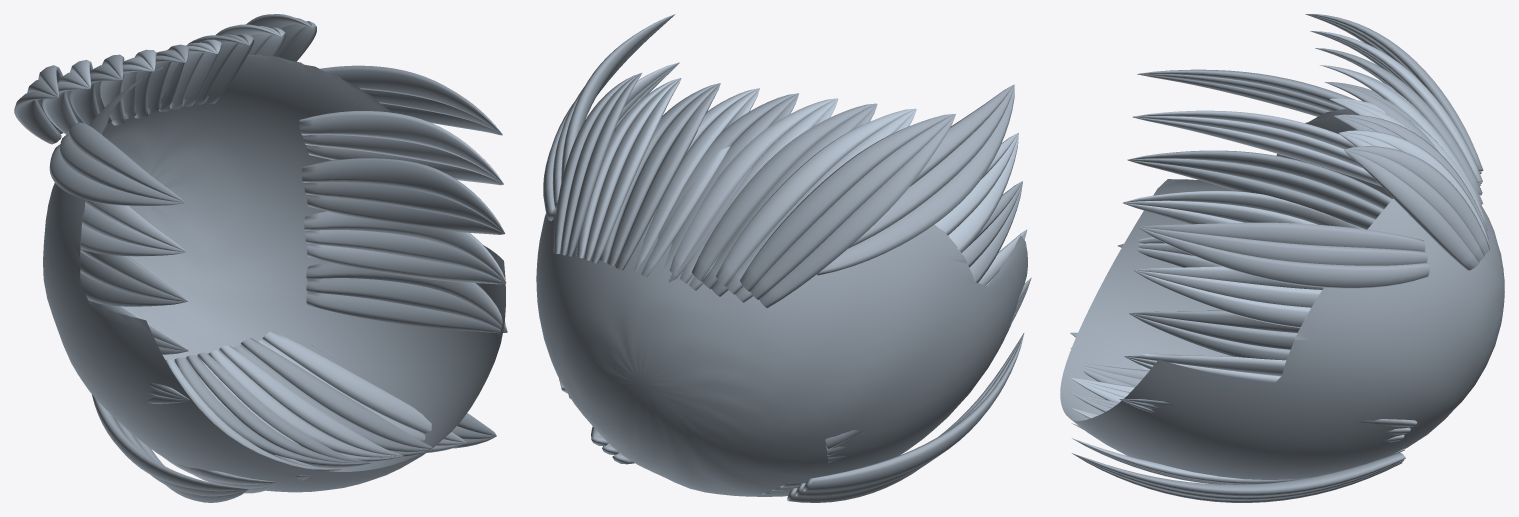
The picture shows the model from 3 angles, left to right: view 1: azimuth 30°, elevation 25°; view 2: azimuth 150°, elevation 25°; view 3: azimuth 270°, elevation 25°; orthographic projection. The views are drawn at different scales.
Parts seen in each view (by area): view 1: CrownHair_ref01, SideHair_1_2_Strand2, SideHair_1_1_Strand2, BackHair_07_Strand2, BackHair_06_Strand2, SideHair_1_4_Strand1, SideHair_1_3_Strand1, SideHair_1_4_Strand0, SideHair_1_3_Strand0, SideHair_1_0_Strand2, SideHair_1_2_Strand1, BackHair_05_Strand2 (+42 smaller); view 2: CrownHair_ref01, FrontHair_00_Strand0, SideHair_-1_0_Strand2, FrontHair_01_Strand0, FrontHair_00_Strand2, FrontHair_00_Strand1, FrontHair_02_Strand0, BackHair_00_Strand0, FrontHair_03_Strand0, SideHair_-1_0_Strand1, FrontHair_06_Strand2, FrontHair_06_Strand1 (+27 smaller); view 3: CrownHair_ref01, SideHair_1_0_Strand0, SideHair_1_0_Strand2, SideHair_1_0_Strand1, BackHair_08_Strand2, SideHair_-1_2_Strand0, FrontHair_08_Strand0, SideHair_-1_2_Strand1, SideHair_-1_2_Strand2, SideHair_-1_3_Strand0, SideHair_-1_1_Strand2, SideHair_1_1_Strand0 (+29 smaller).
Part boxes in pixels (left/top/right/bottom): CrownHair_ref01: left=43, top=54, right=505, bottom=492; SideHair_1_2_Strand2: left=301, top=158, right=504, bottom=232; SideHair_1_1_Strand2: left=299, top=111, right=503, bottom=183; BackHair_07_Strand2: left=262, top=331, right=465, bottom=442; BackHair_06_Strand2: left=241, top=338, right=434, bottom=449; SideHair_1_4_Strand1: left=306, top=278, right=506, bottom=331; SideHair_1_3_Strand1: left=305, top=230, right=505, bottom=282; SideHair_1_4_Strand0: left=306, top=292, right=507, bottom=333; SideHair_1_3_Strand0: left=306, top=243, right=505, bottom=284; SideHair_1_0_Strand2: left=320, top=65, right=502, bottom=134; SideHair_1_2_Strand1: left=304, top=182, right=504, bottom=233; BackHair_05_Strand2: left=219, top=345, right=403, bottom=455; CrownHair_ref01: left=536, top=209, right=1027, bottom=496; FrontHair_00_Strand0: left=740, top=114, right=954, bottom=291; SideHair_-1_0_Strand2: left=817, top=85, right=1014, bottom=275; FrontHair_01_Strand0: left=716, top=108, right=915, bottom=286; FrontHair_00_Strand2: left=759, top=114, right=955, bottom=308; FrontHair_00_Strand1: left=750, top=114, right=955, bottom=299; FrontHair_02_Strand0: left=692, top=103, right=876, bottom=281; BackHair_00_Strand0: left=803, top=333, right=1024, bottom=491; FrontHair_03_Strand0: left=669, top=98, right=837, bottom=276; SideHair_-1_0_Strand1: left=848, top=85, right=1014, bottom=248; FrontHair_06_Strand2: left=615, top=83, right=720, bottom=270; FrontHair_06_Strand1: left=607, top=83, right=720, bottom=266; CrownHair_ref01: left=1060, top=108, right=1504, bottom=479; SideHair_1_0_Strand0: left=1139, top=228, right=1429, bottom=288; SideHair_1_0_Strand2: left=1139, top=222, right=1425, bottom=251; SideHair_1_0_Strand1: left=1139, top=227, right=1427, bottom=265; BackHair_08_Strand2: left=1072, top=452, right=1405, bottom=496; SideHair_-1_2_Strand0: left=1127, top=150, right=1392, bottom=209; FrontHair_08_Strand0: left=1344, top=150, right=1479, bottom=270; SideHair_-1_2_Strand1: left=1128, top=158, right=1383, bottom=219; SideHair_-1_2_Strand2: left=1127, top=160, right=1374, bottom=229; SideHair_-1_3_Strand0: left=1123, top=190, right=1364, bottom=229; SideHair_-1_1_Strand2: left=1133, top=117, right=1381, bottom=186; SideHair_1_1_Strand0: left=1134, top=271, right=1310, bottom=327.
Bounding box in the file's own units: 0.6003 × 0.5983 × 0.6529.
